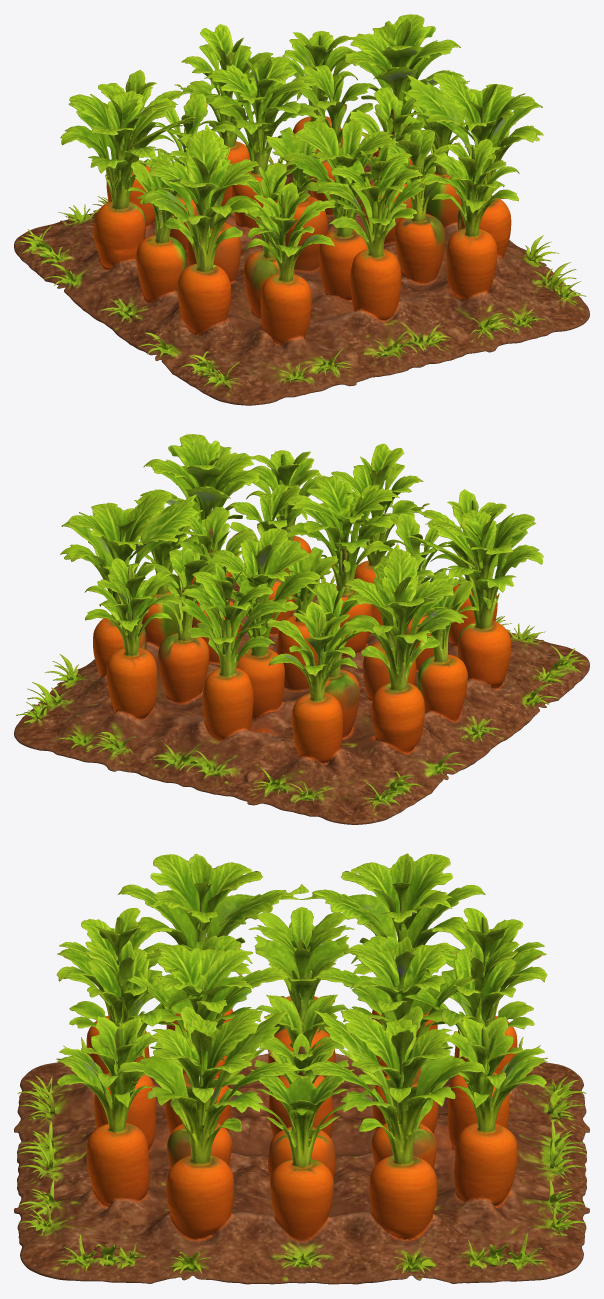
The model's file is carrots.glb.
3 renders of one model, top to bottom at view 1: azimuth 30°, elevation 25°; view 2: azimuth 150°, elevation 25°; view 3: azimuth 270°, elevation 25°, orthographic. The views are drawn at different scales.
Bounding box in the file's own units: 1.88 × 0.8436 × 1.9.
1 material, 1 textured.
